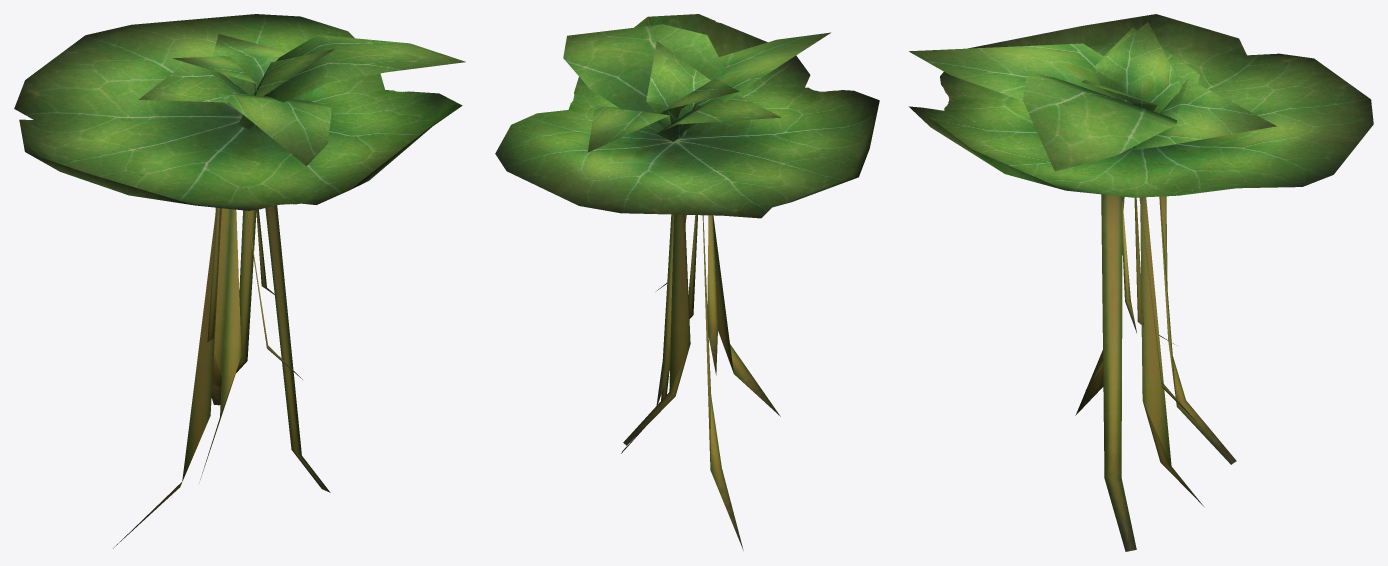
The model's file is leafplant6_lod1.fbx.
The picture shows the model from 3 angles, left to right: view 1: azimuth 30°, elevation 25°; view 2: azimuth 150°, elevation 25°; view 3: azimuth 270°, elevation 25°; orthographic projection. The views are drawn at different scales.
Parts seen in each view (by area): view 1: Mesh Object; view 2: Mesh Object; view 3: Mesh Object.
Boxes of the visible parts, x1,y1,x2,y2 form: Mesh Object: [14, 14, 465, 548]; Mesh Object: [495, 14, 879, 550]; Mesh Object: [908, 14, 1373, 551].
Bounding box in the file's own units: 1.15 × 1.44 × 1.2.
